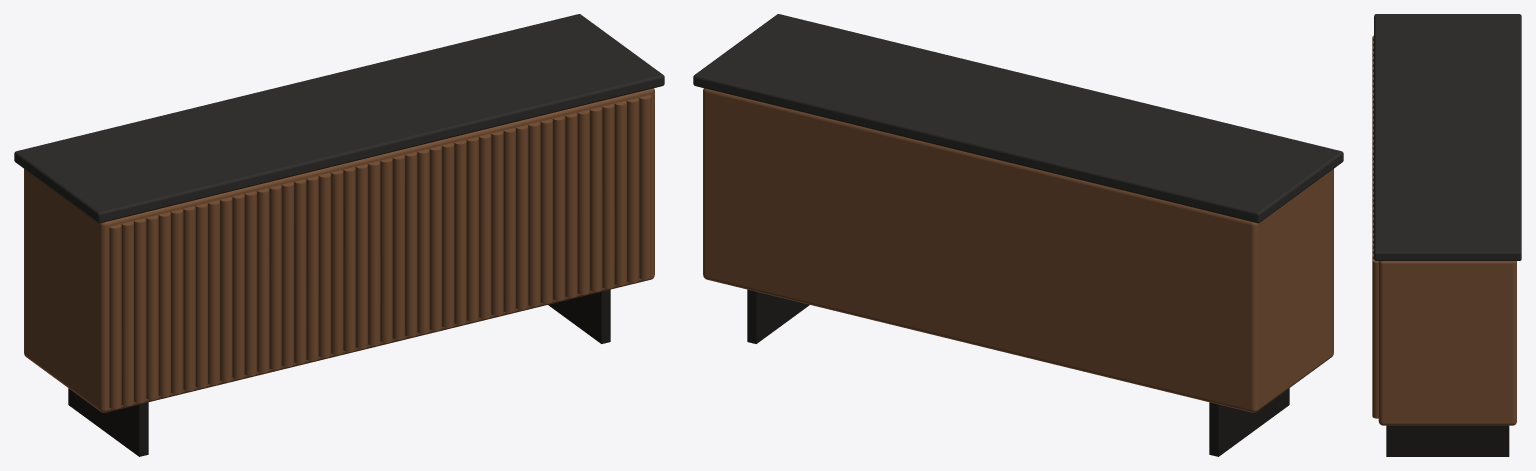
Rendered from strata-sideboard.glb.
3 views of the same model, side by side, from view 1: azimuth 30°, elevation 25°; view 2: azimuth 150°, elevation 25°; view 3: azimuth 270°, elevation 25° (orthographic). The views are drawn at different scales.
Parts seen in each view (by area): view 1: top, body, leg-l, flute-0, flute-3, flute-6, flute-34, flute-37, flute-40, flute-41, flute-43, flute-9 (+36 smaller); view 2: body, top, leg-l, leg-r; view 3: top, body, leg-r, flute-43.
Boxes of the visible parts, <box> form: top: <box>14,14,664,223</box>; body: <box>24,88,654,412</box>; leg-l: <box>68,388,148,456</box>; flute-0: <box>109,224,121,409</box>; flute-3: <box>146,215,158,399</box>; flute-6: <box>183,206,195,390</box>; flute-34: <box>528,122,540,306</box>; flute-37: <box>565,113,577,297</box>; flute-40: <box>602,104,614,288</box>; flute-41: <box>614,101,626,285</box>; flute-43: <box>639,95,651,279</box>; flute-9: <box>220,197,232,381</box>; body: <box>703,88,1333,412</box>; top: <box>693,14,1343,223</box>; leg-l: <box>1209,388,1289,456</box>; leg-r: <box>747,289,809,343</box>; top: <box>1374,14,1521,260</box>; body: <box>1378,261,1516,425</box>; leg-r: <box>1386,425,1509,456</box>; flute-43: <box>1372,259,1378,418</box>.
Size of the model in its own units: 1.84 by 0.8075 by 0.486.
